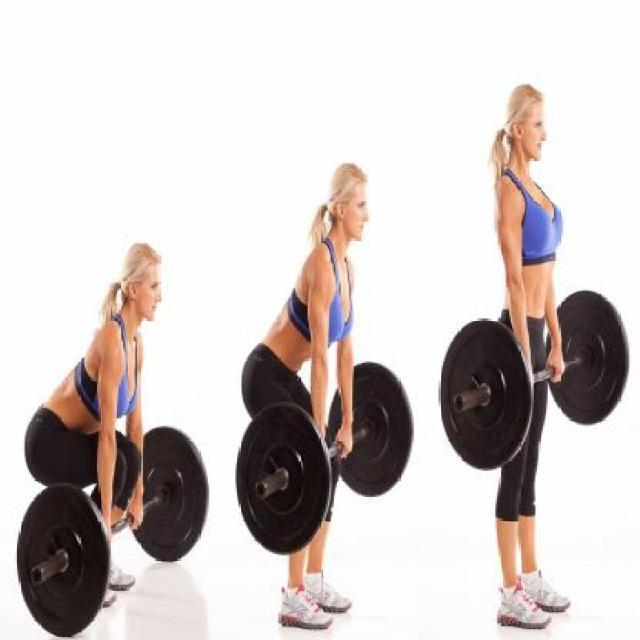Barbell: (252, 478, 270, 504), (28, 564, 46, 588), (452, 392, 466, 414)
